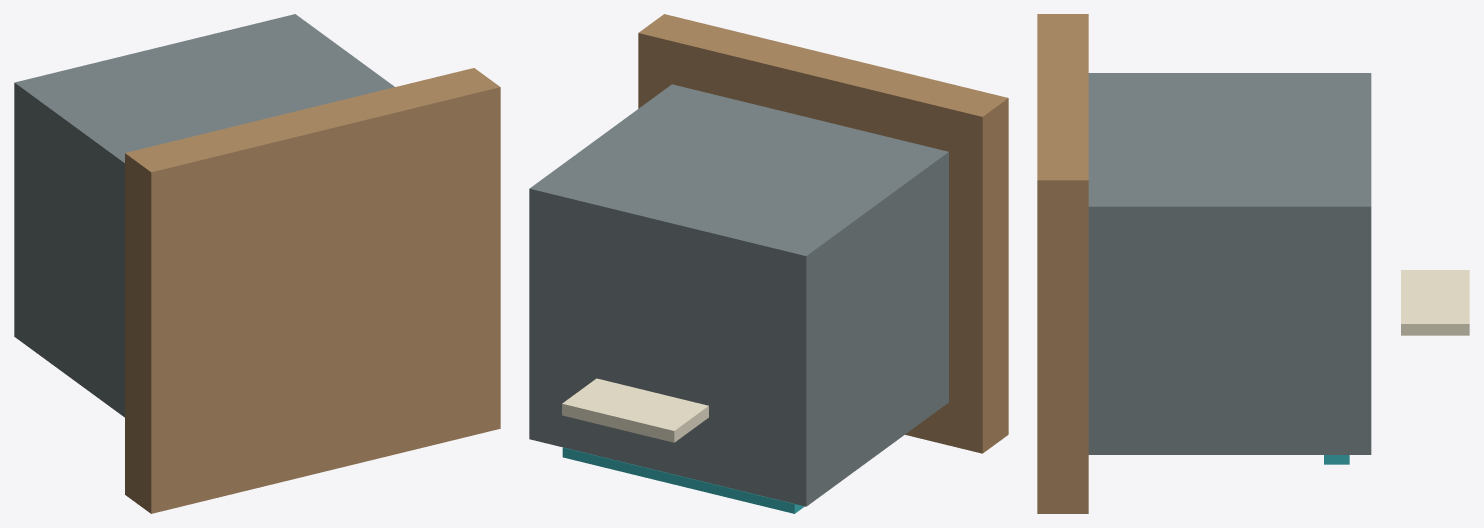
The model's file is warehouse.glb.
The picture shows the model from 3 angles, left to right: view 1: azimuth 30°, elevation 25°; view 2: azimuth 150°, elevation 25°; view 3: azimuth 270°, elevation 25°; orthographic projection. The views are drawn at different scales.
Parts seen in each view (by area): view 1: foundation, body; view 2: body, foundation, sign, stripe; view 3: body, foundation, sign.
Boxes of the visible parts, left/top/right/bottom form: foundation: left=125, top=68, right=500, bottom=513; body: left=14, top=14, right=394, bottom=417; body: left=529, top=84, right=948, bottom=506; foundation: left=638, top=14, right=1008, bottom=453; sign: left=562, top=378, right=708, bottom=442; stripe: left=562, top=447, right=804, bottom=513; body: left=1088, top=73, right=1371, bottom=454; foundation: left=1037, top=14, right=1088, bottom=513; sign: left=1401, top=270, right=1469, bottom=335.
Bounding box in the file's own units: 0.92 × 0.86 × 1.01.
